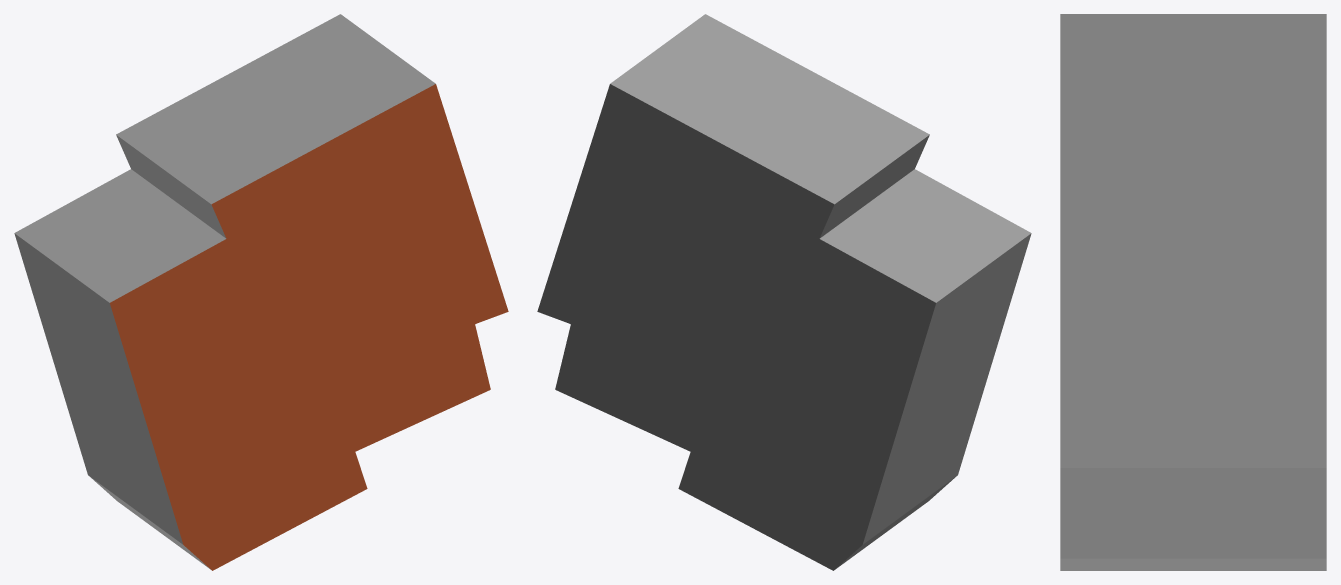
Rendered from construction_4548_assumed_A_Casa_h6m.obj.
3 views of the same model, side by side, from view 1: azimuth 30°, elevation 25°; view 2: azimuth 150°, elevation 25°; view 3: azimuth 270°, elevation 25° (orthographic). The views are drawn at different scales.
Parts seen in each view (by area): view 1: construction_4548_assumed_A_Casa; view 2: construction_4548_assumed_A_Casa; view 3: construction_4548_assumed_A_Casa.
Boxes of the visible parts, x1,y1,x2,y2 form: construction_4548_assumed_A_Casa: [14, 14, 508, 570]; construction_4548_assumed_A_Casa: [537, 14, 1031, 570]; construction_4548_assumed_A_Casa: [1060, 14, 1326, 570].
Size of the model in its own units: 14.49 by 15.01 by 6.
